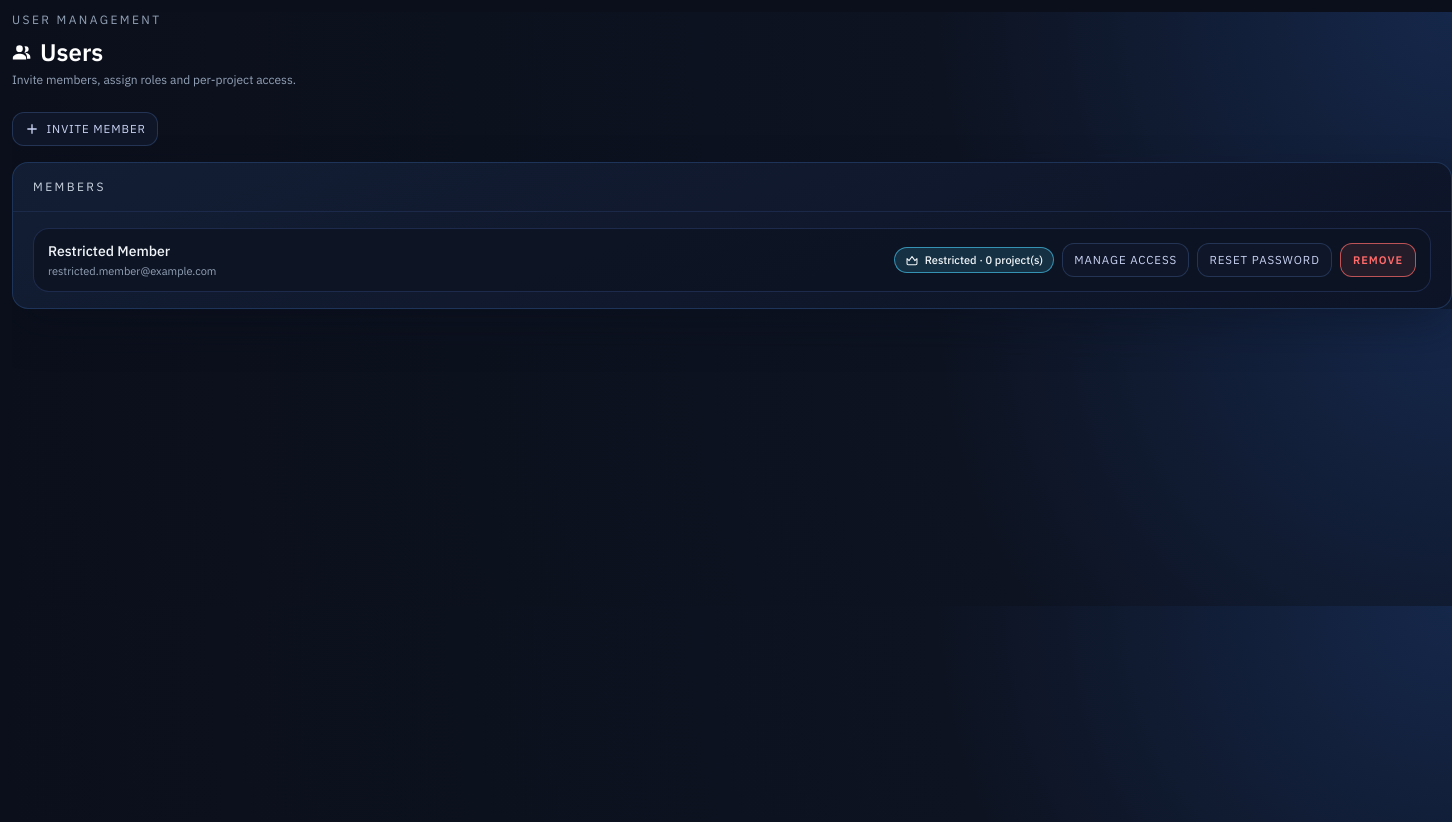
Test case: UsersPage — Access drawer offers an explicit reset for restricted members › shows 'Reset to full access' for a restricted member, not the full-member info text
The image size is (1452, 822).
Step 1. Click the button "Manage access" → (1126, 260), box [1062,243,1189,277]
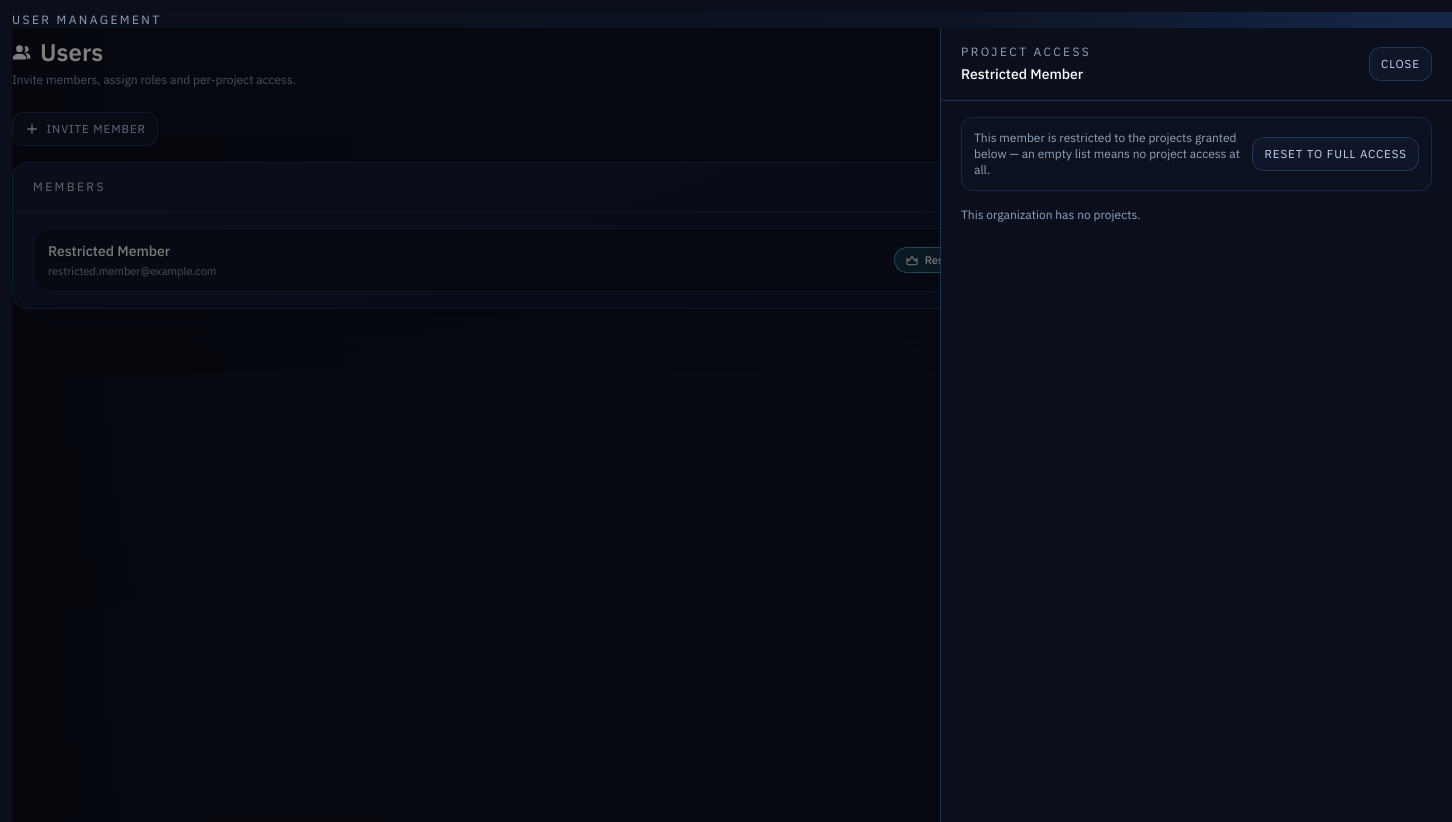
Expected: the button "Reset to full access" is shown, [1252,137,1419,171]
